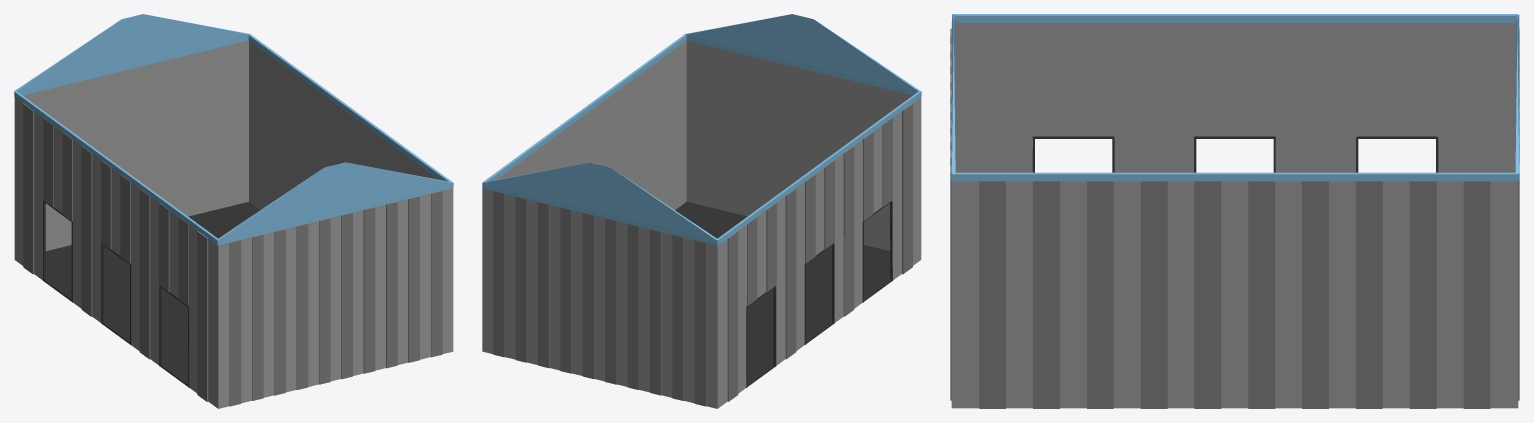
Rendered from warehouse.fbx.
The picture shows the model from 3 angles, left to right: view 1: azimuth 30°, elevation 25°; view 2: azimuth 150°, elevation 25°; view 3: azimuth 270°, elevation 25°; orthographic projection. The views are drawn at different scales.
Parts seen in each view (by area): view 1: Cube.002, Cube.004, Cube.005, Cube.003, Cube.006, Cube.001, Cube, Cube.008, Cube.007; view 2: Cube.005, Cube.004, Cube.002, Cube.003, Cube.001, Cube.006, Cube, Cube.008, Cube.007; view 3: Cube.003, Cube.004, Cube.007, Cube.008, Cube.002, Cube.005, Cube.006, Cube.001.
Boxes of the visible parts, x1,y1,x2,y2 form: Cube.002: (218, 188, 453, 408); Cube.004: (15, 97, 217, 408); Cube.005: (14, 40, 248, 259); Cube.003: (249, 41, 438, 209); Cube.006: (14, 14, 249, 95); Cube.001: (217, 162, 452, 245); Cube: (45, 202, 260, 384); Cube.008: (14, 91, 218, 245); Cube.007: (248, 34, 453, 187); Cube.005: (482, 188, 717, 408); Cube.004: (718, 97, 921, 408); Cube.002: (686, 40, 912, 250); Cube.003: (496, 40, 686, 209); Cube.001: (685, 14, 920, 95); Cube.006: (482, 162, 717, 245); Cube: (675, 201, 891, 384); Cube.008: (717, 91, 921, 245); Cube.007: (482, 33, 686, 182); Cube.003: (952, 181, 1517, 408); Cube.004: (955, 23, 1515, 172); Cube.007: (952, 172, 1517, 181); Cube.008: (952, 14, 1517, 22); Cube.002: (950, 21, 952, 407); Cube.005: (1517, 29, 1519, 408); Cube.006: (1515, 14, 1519, 180); Cube.001: (952, 14, 955, 180).
Bounding box in the file's own units: 6074 × 5251 × 9067.
